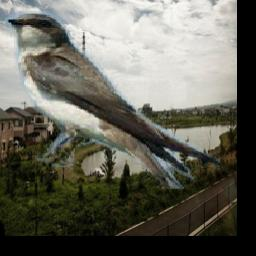Swallow: (6, 12, 221, 190)
